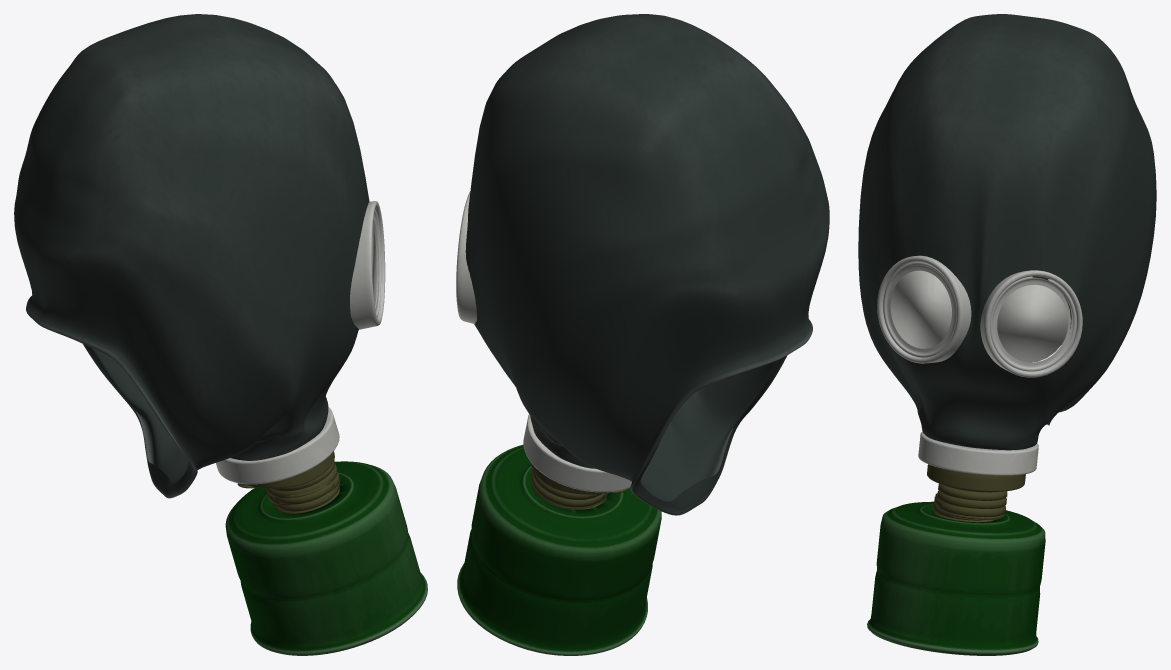
File: gp-5_soviet_russian_gas_mask.glb
The picture shows the model from 3 angles, left to right: view 1: azimuth 30°, elevation 25°; view 2: azimuth 150°, elevation 25°; view 3: azimuth 270°, elevation 25°; orthographic projection. The views are drawn at different scales.
Parts seen in each view (by area): view 1: Object_5, Object_6, Object_2, Object_3, Object_7, Object_4; view 2: Object_5, Object_6, Object_3, Object_2, Object_7; view 3: Object_5, Object_6, Object_7, Object_2, Object_3, Object_4.
Part boxes in pixels (left/top/right/bottom): Object_5: left=14, top=14, right=369, bottom=498; Object_6: left=225, top=461, right=427, bottom=655; Object_2: left=350, top=201, right=385, bottom=329; Object_3: left=216, top=407, right=339, bottom=484; Object_7: left=237, top=222, right=376, bottom=506; Object_4: left=244, top=451, right=334, bottom=488; Object_5: left=465, top=14, right=829, bottom=515; Object_6: left=457, top=444, right=661, bottom=655; Object_3: left=523, top=414, right=631, bottom=492; Object_2: left=456, top=191, right=476, bottom=323; Object_7: left=530, top=469, right=627, bottom=509; Object_5: left=858, top=14, right=1156, bottom=450; Object_6: left=867, top=493, right=1045, bottom=655; Object_7: left=890, top=270, right=1068, bottom=520; Object_2: left=877, top=255, right=1082, bottom=377; Object_3: left=918, top=431, right=1038, bottom=475; Object_4: left=927, top=464, right=1025, bottom=491.
Bounding box in the file's own units: 28.94 × 47.96 × 22.73.
1 material, 1 textured.
